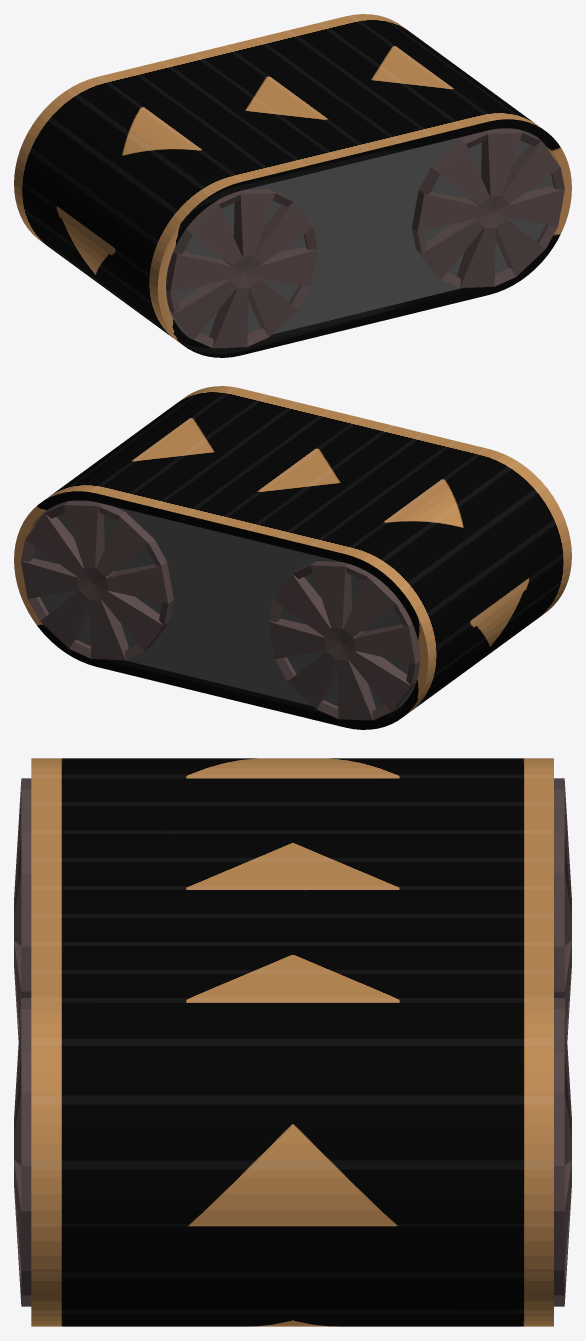
File: conveyorbelt.gltf
3 views of the same model, one above another, from view 1: azimuth 30°, elevation 25°; view 2: azimuth 150°, elevation 25°; view 3: azimuth 270°, elevation 25° (orthographic). The views are drawn at different scales.
Visible parts, largest first — view 1: belt, hjul.001, hjul.004; view 2: belt, hjul.002, hjul.003; view 3: belt, hjul.002, hjul.001, hjul.003, hjul.004.
Boxes of the visible parts, x1,y1,x2,y2 form: belt: (14, 14, 571, 357); hjul.001: (411, 128, 564, 287); hjul.004: (166, 189, 317, 348); belt: (14, 386, 571, 729); hjul.002: (21, 501, 173, 659); hjul.003: (268, 561, 419, 720); belt: (31, 758, 553, 1326); hjul.002: (554, 998, 571, 1306); hjul.001: (14, 998, 31, 1306); hjul.003: (554, 778, 571, 1039); hjul.004: (14, 778, 31, 1039).
Bounding box in the file's own units: 2.5 × 1 × 1.6.
4 materials, 2 textured.
